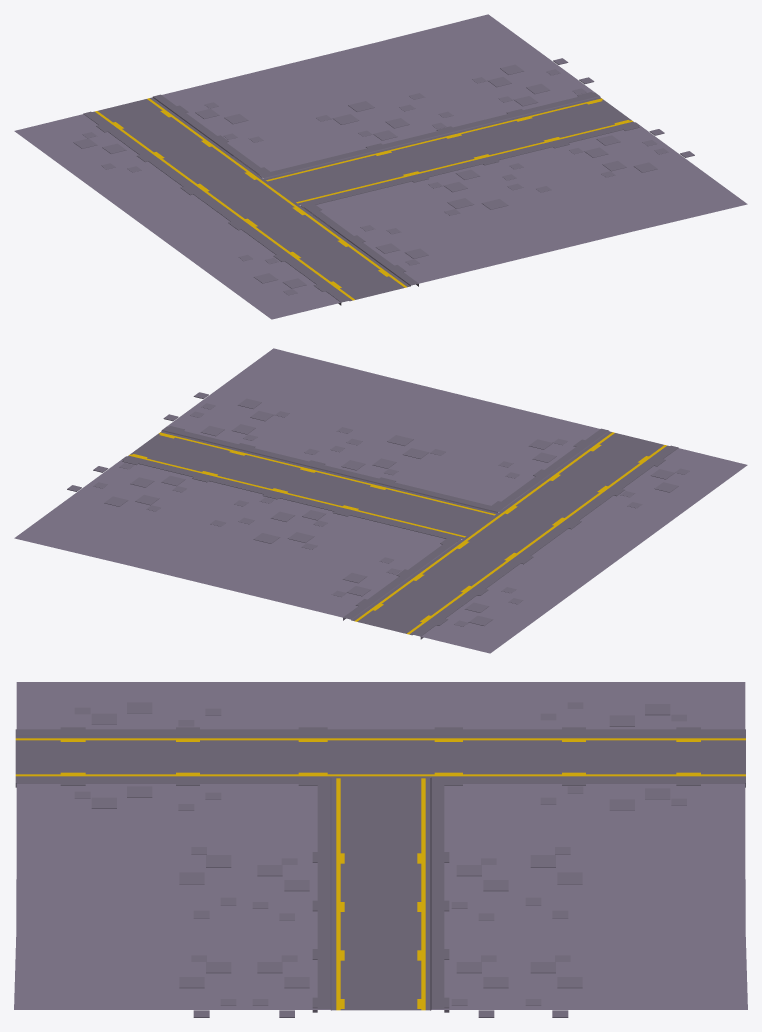
File: road.fbx
3 views of the same model, one above another, from view 1: azimuth 30°, elevation 25°; view 2: azimuth 150°, elevation 25°; view 3: azimuth 270°, elevation 25° (orthographic). The views are drawn at different scales.
Parts seen in each view (by area): view 1: pPlane10, pPlane9, pPlane8, pPlane7, pPlane6, pPlane4, pPlane3, pPlane5; view 2: pPlane10, pPlane9, pPlane8, pPlane7, pPlane6, pPlane4, pPlane3, pPlane5; view 3: pPlane10, pPlane9, pPlane6, pPlane8, pPlane7, pPlane4, pPlane3, pPlane5.
Boxes of the visible parts, left/top/right/bottom form: pPlane10: left=206, top=43, right=631, bottom=272; pPlane9: left=375, top=14, right=747, bottom=231; pPlane8: left=191, top=213, right=463, bottom=319; pPlane7: left=14, top=84, right=285, bottom=190; pPlane6: left=95, top=143, right=357, bottom=260; pPlane4: left=315, top=102, right=551, bottom=206; pPlane3: left=455, top=74, right=665, bottom=172; pPlane5: left=233, top=136, right=410, bottom=226; pPlane10: left=130, top=377, right=555, bottom=606; pPlane9: left=14, top=348, right=386, bottom=565; pPlane8: left=476, top=418, right=747, bottom=523; pPlane7: left=298, top=548, right=570, bottom=653; pPlane6: left=388, top=477, right=666, bottom=594; pPlane4: left=210, top=436, right=446, bottom=540; pPlane3: left=93, top=408, right=306, bottom=506; pPlane5: left=351, top=470, right=528, bottom=560; pPlane10: left=16, top=814, right=745, bottom=930; pPlane9: left=14, top=930, right=747, bottom=1017; pPlane6: left=245, top=682, right=517, bottom=814; pPlane8: left=15, top=682, right=245, bottom=814; pPlane7: left=515, top=682, right=745, bottom=814; pPlane4: left=244, top=833, right=517, bottom=931; pPlane3: left=244, top=930, right=517, bottom=1017; pPlane5: left=244, top=777, right=517, bottom=833.
Size of the model in its own units: 1.07 by 0.00721 by 0.9901.
